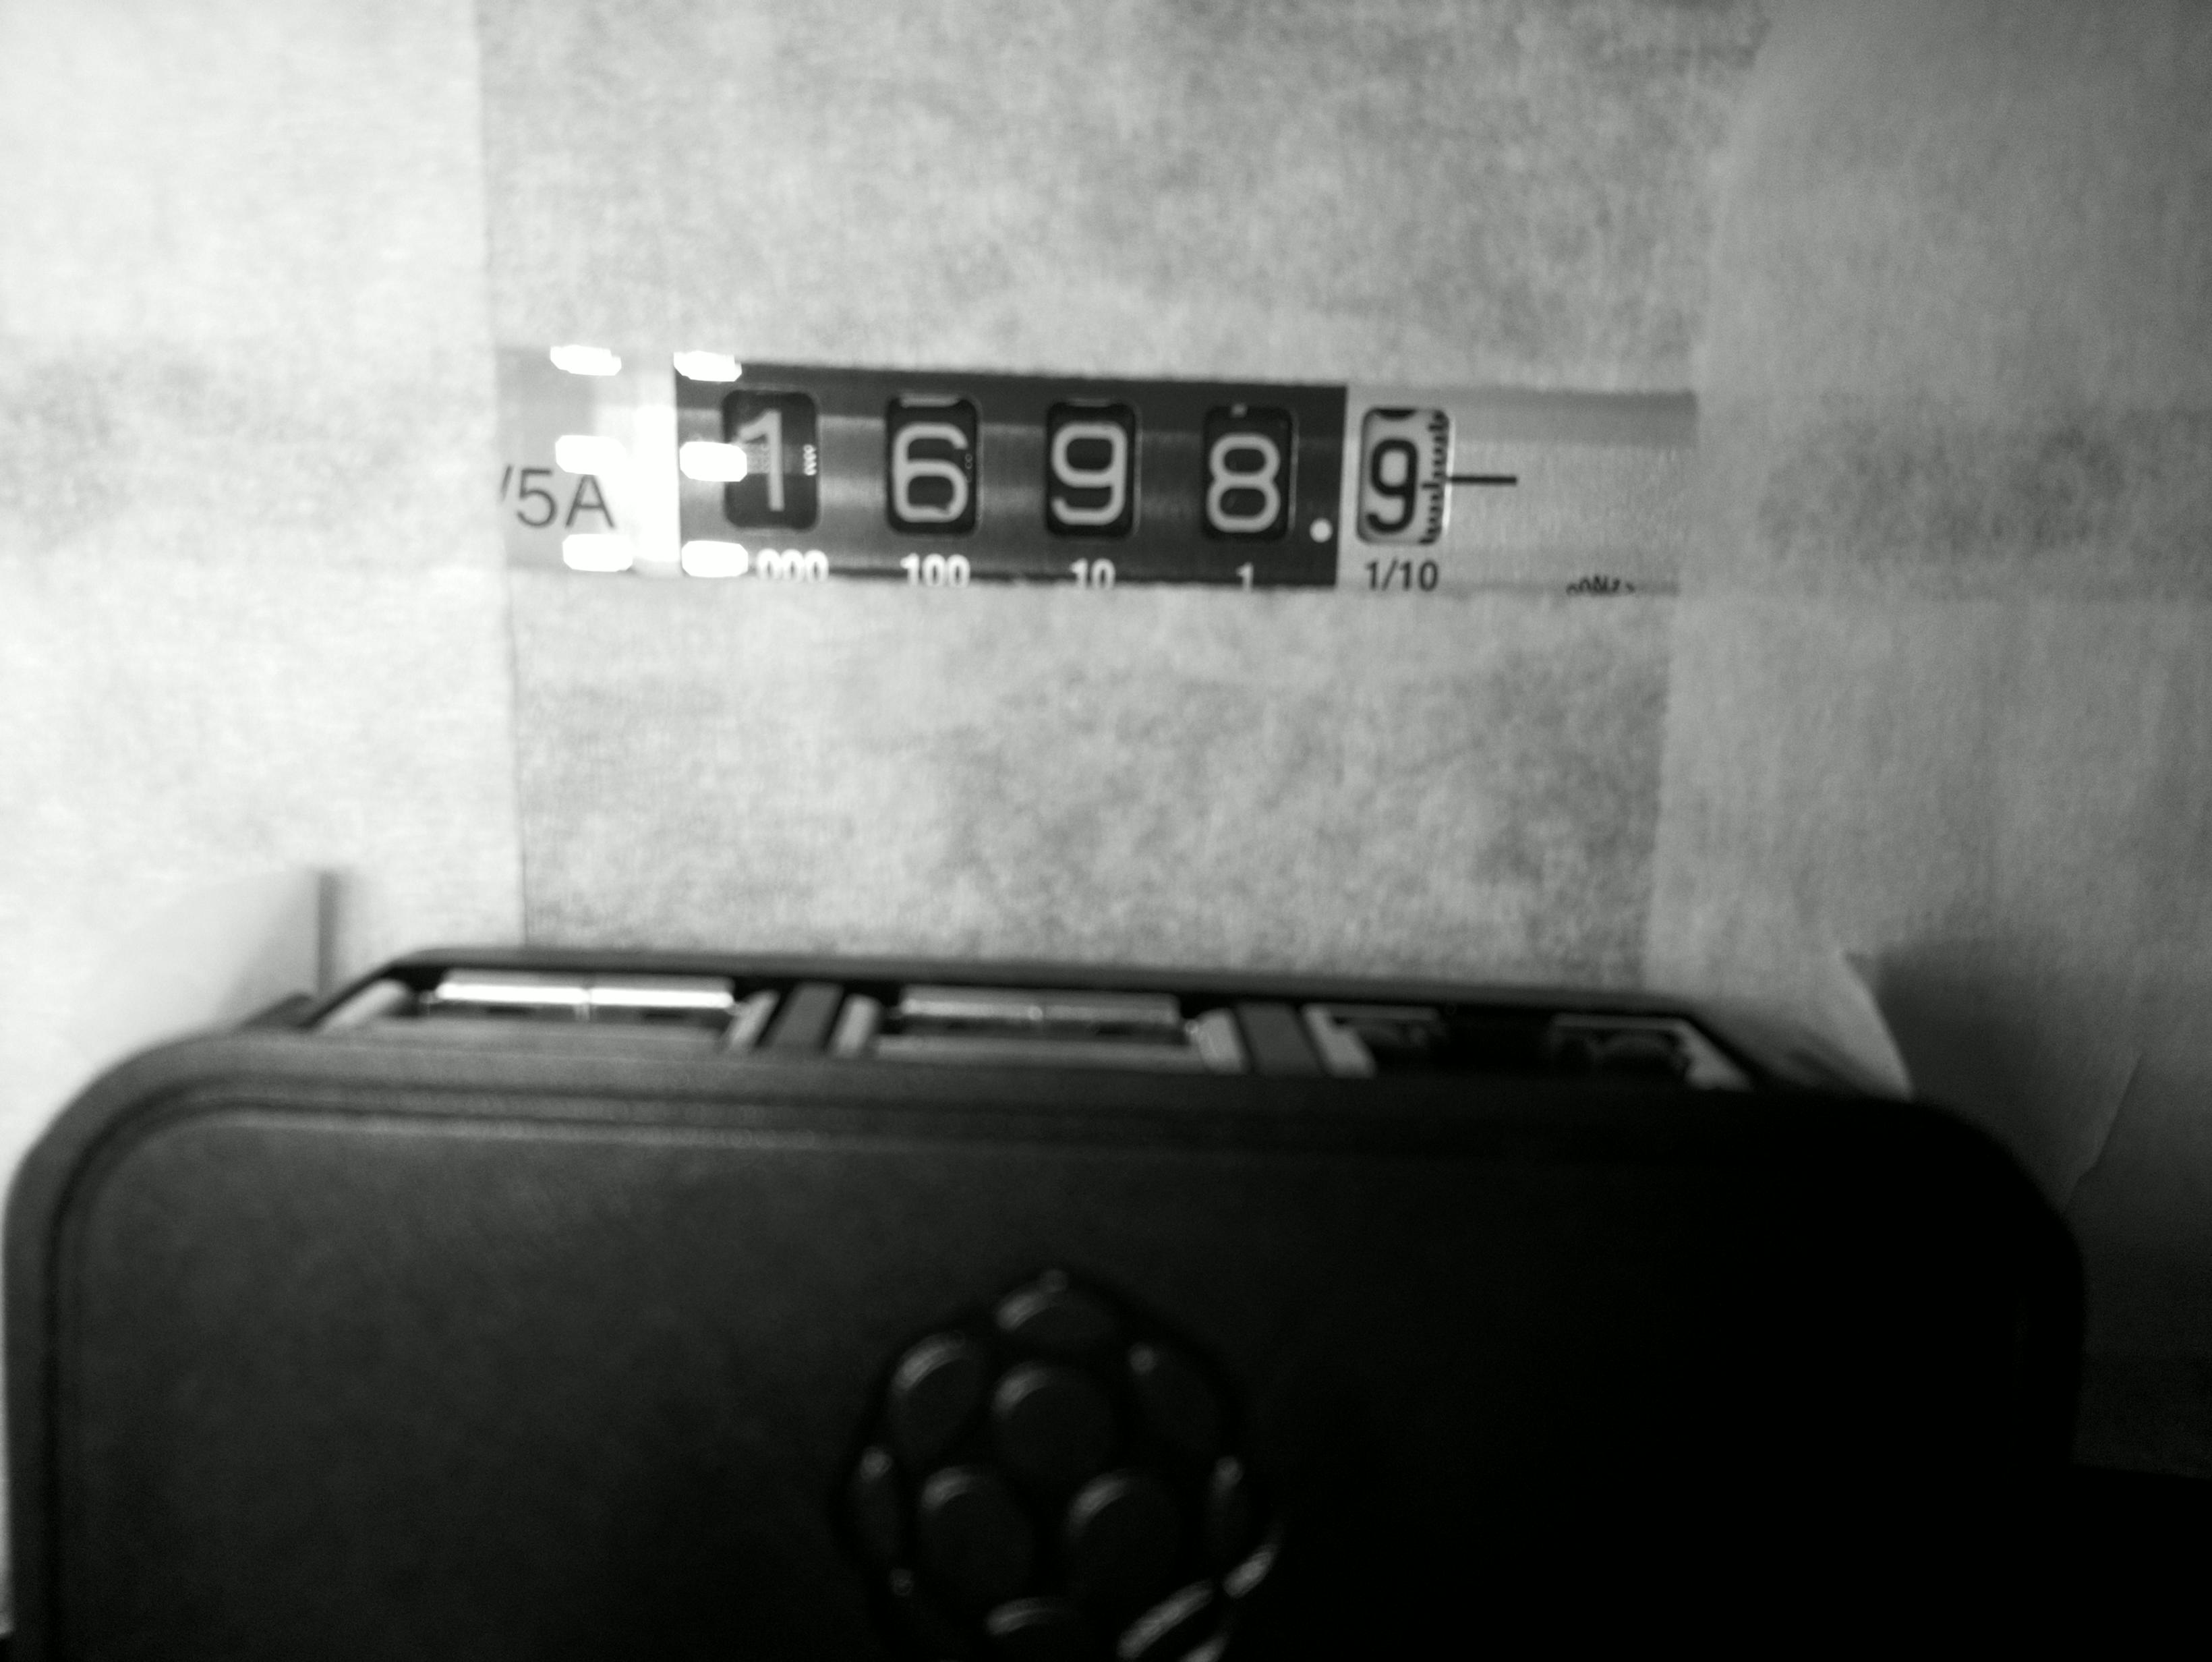meter_box: (718, 337, 1477, 616)
